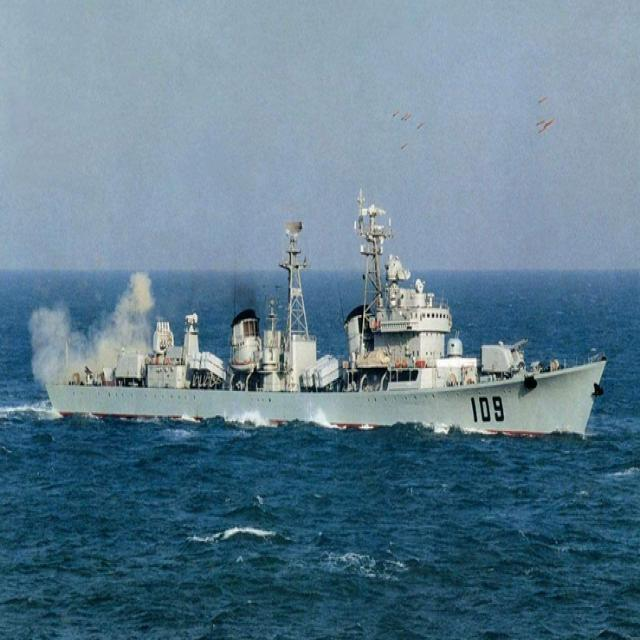navalvessels: (28, 171, 605, 450)
